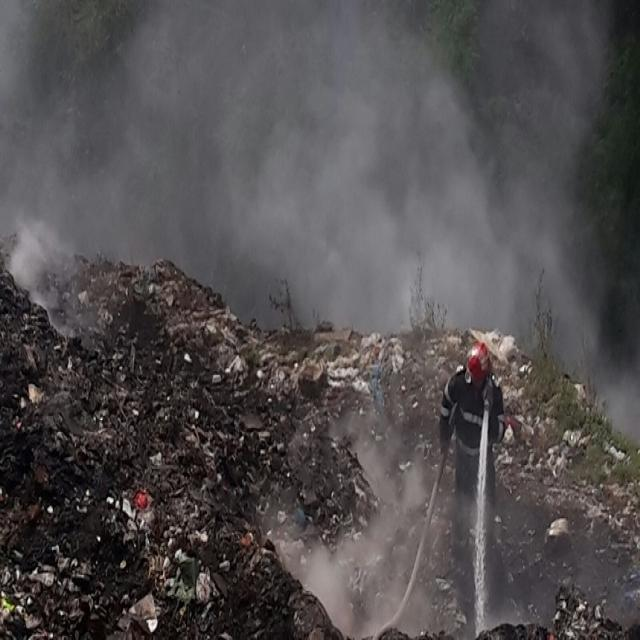Smoke: (0, 0, 623, 352), (312, 441, 532, 640)
